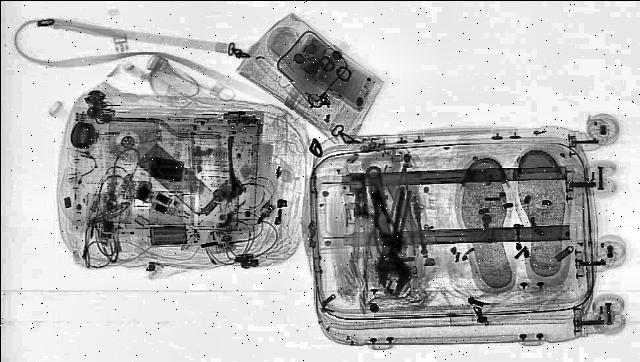Wrench: (353, 164, 412, 292)
